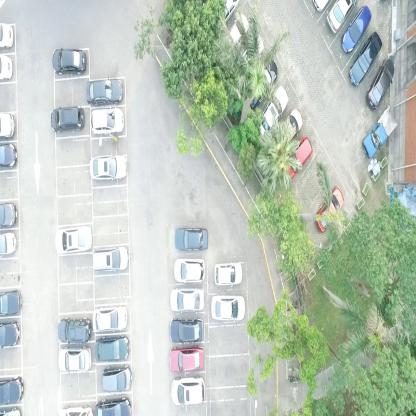car: (362, 104, 398, 158), (349, 28, 382, 86), (258, 82, 286, 141), (366, 55, 395, 111), (341, 1, 371, 54), (313, 182, 343, 234), (250, 53, 278, 108), (283, 133, 312, 182), (275, 104, 302, 153), (223, 10, 248, 61), (326, 0, 356, 39), (170, 374, 206, 406), (168, 342, 206, 372), (92, 304, 128, 335), (55, 225, 92, 255), (58, 313, 92, 345), (89, 154, 127, 180), (58, 345, 92, 374), (50, 104, 85, 132), (101, 364, 132, 394), (92, 246, 129, 271), (52, 46, 86, 73), (90, 108, 124, 135), (169, 318, 205, 342), (170, 288, 205, 312), (214, 260, 245, 287), (174, 258, 206, 283), (210, 297, 246, 319), (86, 79, 122, 101), (174, 226, 207, 250), (0, 374, 26, 404), (94, 397, 132, 415), (0, 286, 22, 316), (0, 320, 21, 348), (0, 200, 21, 227), (0, 230, 18, 256), (0, 142, 18, 168), (0, 110, 16, 137), (61, 402, 94, 415), (0, 23, 16, 47), (0, 57, 13, 80)
